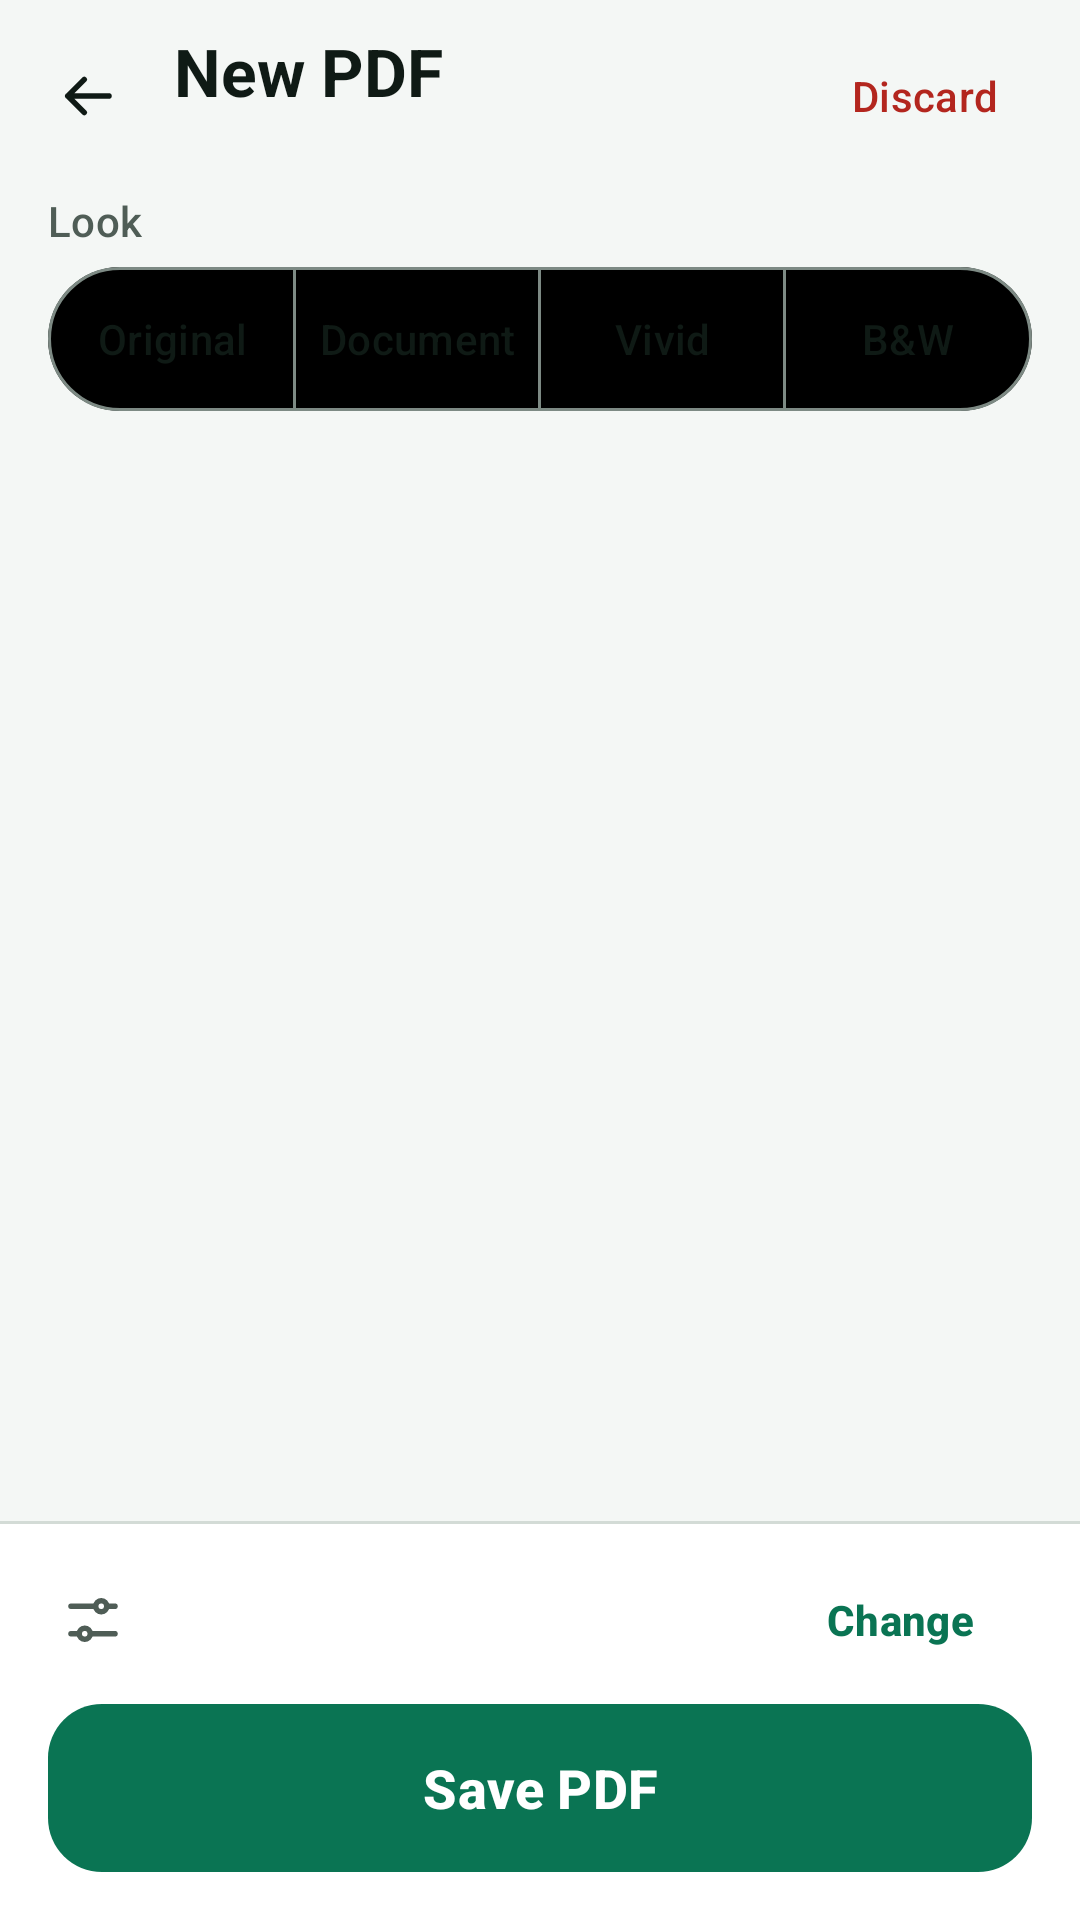

Icon bounding boxes for this 1080w x 1920h phone screenshot, format (x1, y1, x2, y2):
tune: (68, 1598, 118, 1642)
